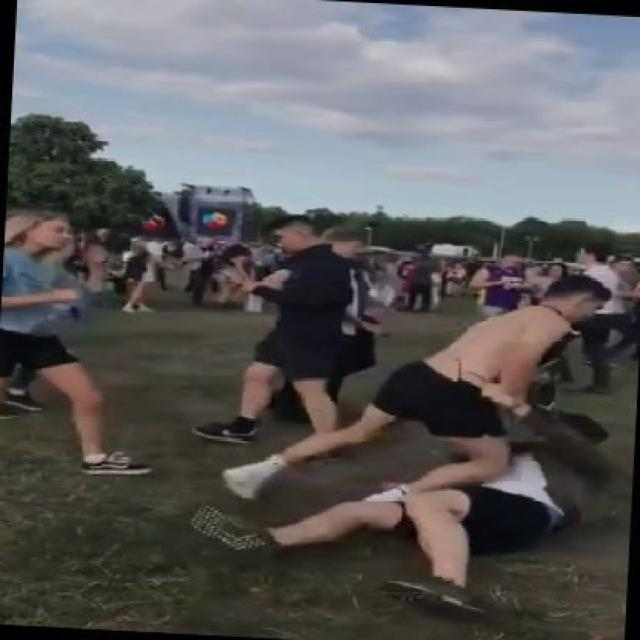fight: (188, 268, 622, 622)
non-fight: (0, 205, 161, 484), (185, 210, 351, 460), (563, 245, 628, 396), (468, 247, 530, 317)
